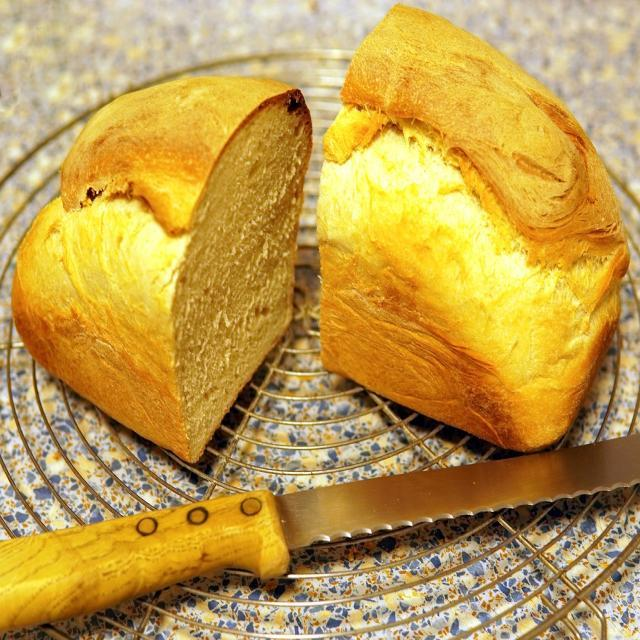Knife: (0, 434, 640, 632)
